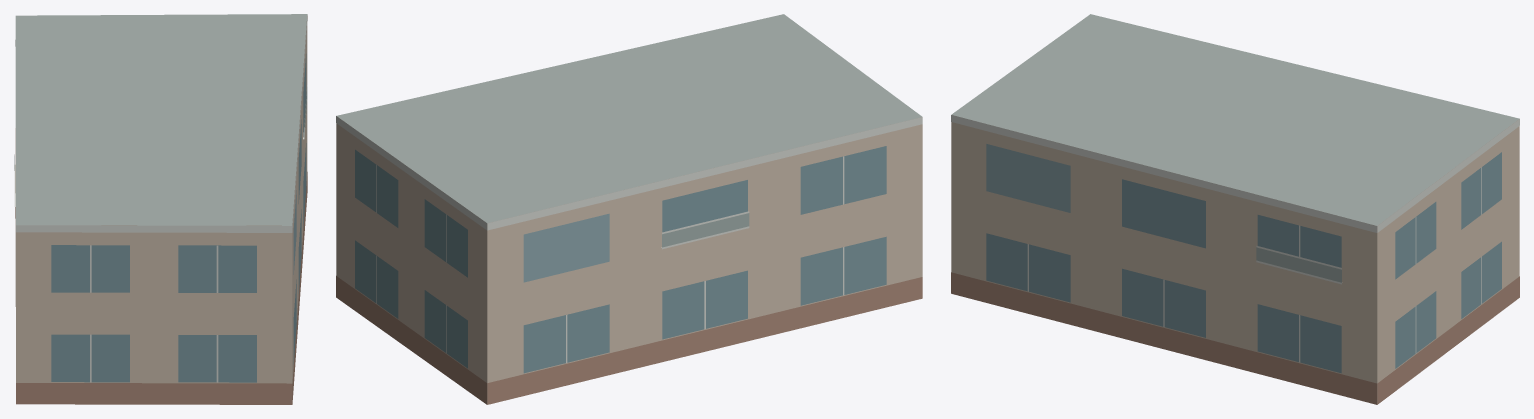
File: survey-upis-32686264.glb
3 renders of one model, left to right at view 1: azimuth 30°, elevation 25°; view 2: azimuth 150°, elevation 25°; view 3: azimuth 270°, elevation 25°, orthographic.
Visible parts, largest first — view 1: survey-upis-32686264.tmp; view 2: survey-upis-32686264.tmp; view 3: survey-upis-32686264.tmp.
Boxes of the visible parts, x1=… form: survey-upis-32686264.tmp: x1=14, y1=14, x2=307, y2=404; survey-upis-32686264.tmp: x1=336, y1=14, x2=922, y2=404; survey-upis-32686264.tmp: x1=951, y1=14, x2=1519, y2=404.
Bounding box in the file's own units: 15.51 × 6.1 × 17.58.
